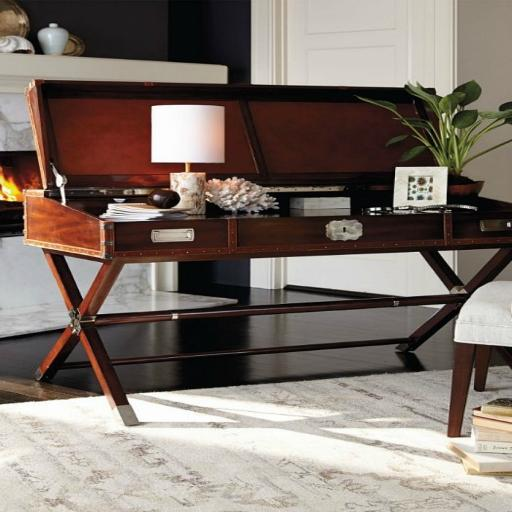Door: (286, 0, 456, 306)
chair: (446, 281, 512, 438)
desk: (21, 79, 512, 426)
